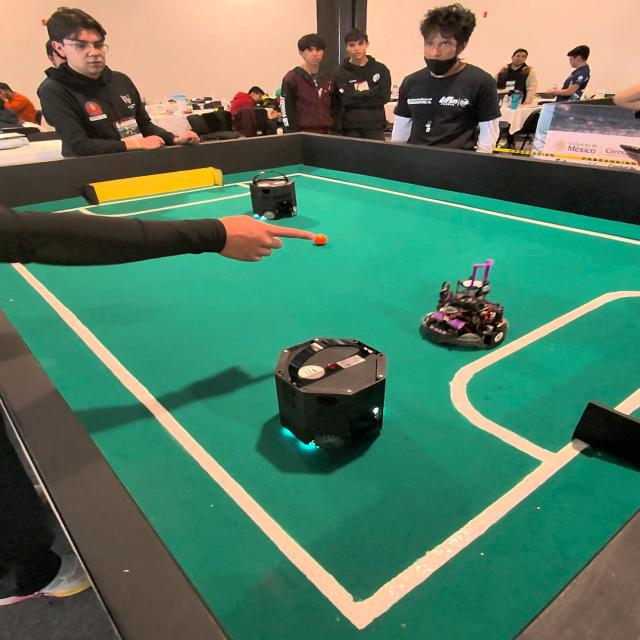Robot: (273, 317, 388, 473), (424, 258, 509, 352), (250, 170, 302, 227)
pelota: (316, 232, 327, 246)
